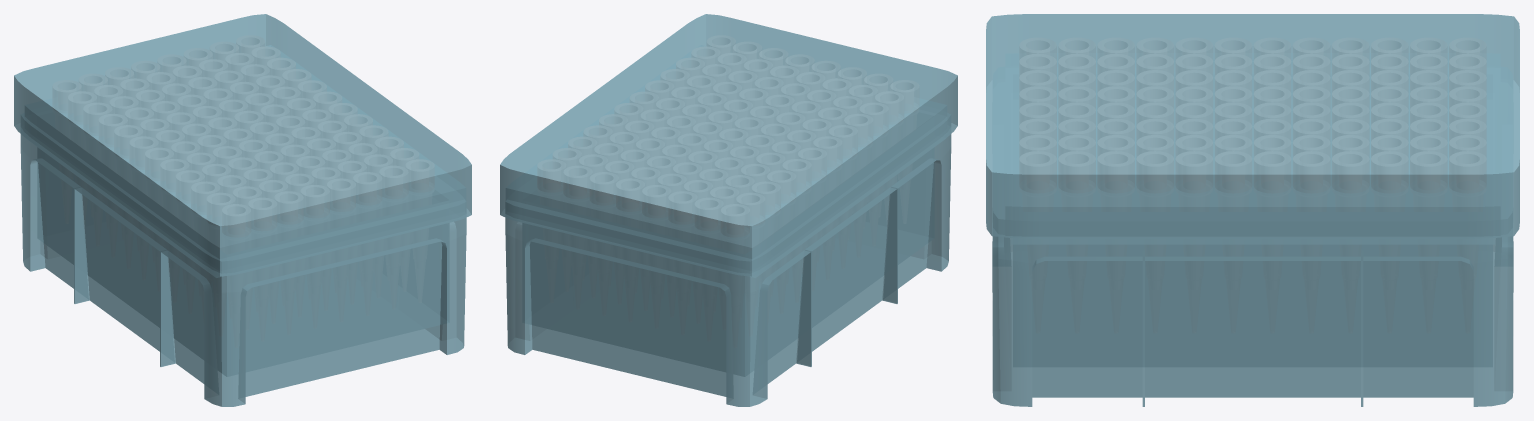
The model's file is Pippet_Box.fbx.
3 renders of one model, left to right at view 1: azimuth 30°, elevation 25°; view 2: azimuth 150°, elevation 25°; view 3: azimuth 270°, elevation 25°, orthographic. The views are drawn at different scales.
Parts seen in each view (by area): view 1: Lid_Geo, Body_Geo, P10Tip035, P10Tip001, P10Tip086, P10Tip022, P10Tip081, P10Tip029, P10Tip024, P10Tip020, P10Tip074, P10Tip054 (+9 smaller); view 2: Lid_Geo, Body_Geo, P10Tip030, P10Tip016, P10Tip036, P10Tip082, P10Tip041, P10Tip042, P10Tip078, P10Tip012, P10Tip072, P10Tip079 (+9 smaller); view 3: Lid_Geo, Body_Geo, Covering_Geo, P10Tip013, P10Tip063, P10Tip070, P10Tip095, P10Tip002, P10Tip050, P10Tip075, P10Tip076, P10Tip012 (+87 smaller).
Part boxes in pixels (bbox=[...]): Lid_Geo: bbox=[14, 14, 471, 276]; Body_Geo: bbox=[20, 113, 466, 406]; P10Tip035: bbox=[222, 204, 250, 236]; P10Tip001: bbox=[353, 172, 381, 204]; P10Tip086: bbox=[327, 179, 355, 211]; P10Tip022: bbox=[301, 185, 329, 217]; P10Tip081: bbox=[248, 198, 276, 230]; P10Tip029: bbox=[380, 166, 407, 198]; P10Tip024: bbox=[275, 192, 302, 223]; P10Tip020: bbox=[406, 160, 433, 191]; P10Tip074: bbox=[191, 182, 219, 214]; P10Tip054: bbox=[145, 148, 173, 180]; Lid_Geo: bbox=[500, 14, 957, 276]; Body_Geo: bbox=[505, 113, 951, 406]; P10Tip030: bbox=[721, 204, 749, 236]; P10Tip016: bbox=[590, 172, 618, 204]; P10Tip036: bbox=[616, 179, 644, 211]; P10Tip082: bbox=[642, 185, 670, 217]; P10Tip041: bbox=[695, 198, 723, 230]; P10Tip042: bbox=[564, 166, 591, 198]; P10Tip078: bbox=[669, 192, 696, 223]; P10Tip012: bbox=[538, 160, 565, 191]; P10Tip072: bbox=[752, 182, 780, 214]; P10Tip079: bbox=[798, 148, 826, 180]; Lid_Geo: bbox=[986, 14, 1519, 238]; Body_Geo: bbox=[992, 67, 1513, 406]; Covering_Geo: bbox=[1011, 238, 1494, 243]; P10Tip013: bbox=[1176, 151, 1212, 192]; P10Tip063: bbox=[1215, 151, 1251, 192]; P10Tip070: bbox=[1293, 151, 1329, 192]; P10Tip095: bbox=[1254, 151, 1290, 192]; P10Tip002: bbox=[1059, 151, 1095, 192]; P10Tip050: bbox=[1410, 151, 1446, 192]; P10Tip075: bbox=[1371, 151, 1407, 192]; P10Tip076: bbox=[1098, 151, 1134, 192]; P10Tip012: bbox=[1449, 151, 1485, 192].
Bounding box in the file's own units: 5.15 × 3.5 × 7.23.
